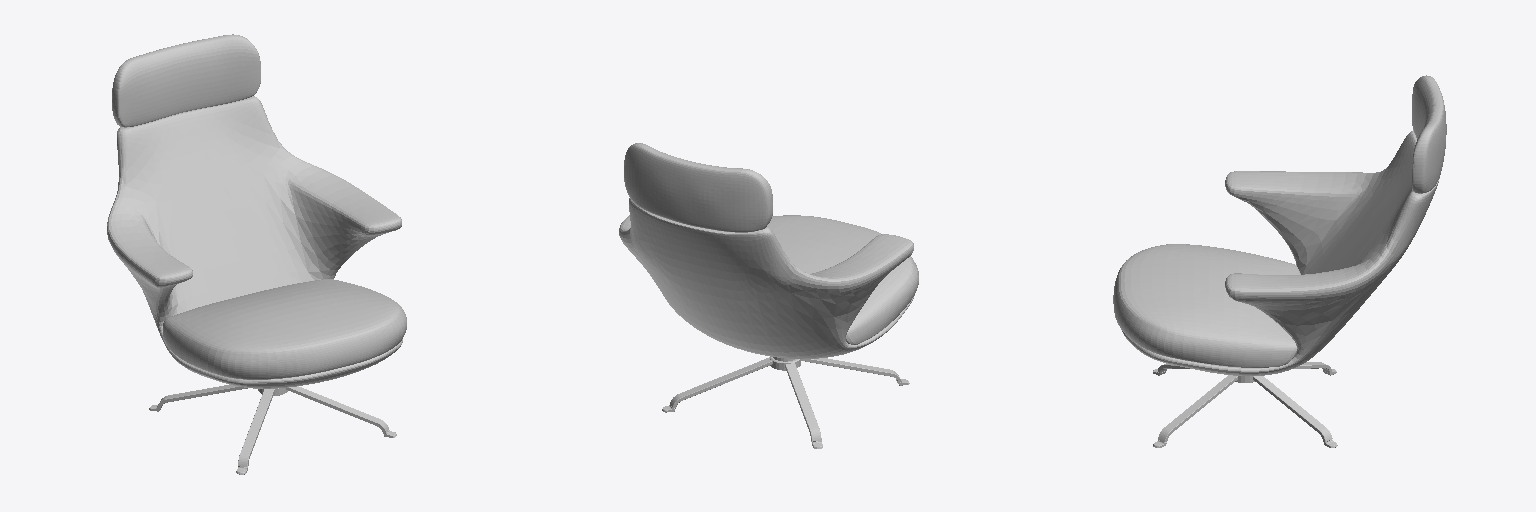
3 views of the same model, side by side, from view 1: azimuth 30°, elevation 25°; view 2: azimuth 150°, elevation 25°; view 3: azimuth 270°, elevation 25° (orthographic).
Visible parts, largest first — view 1: armchair_001; view 2: armchair_001; view 3: armchair_001.
Boxes of the visible parts, x1=… form: armchair_001: x1=107, y1=34, x2=406, y2=474; armchair_001: x1=619, y1=143, x2=918, y2=448; armchair_001: x1=1113, y1=75, x2=1446, y2=447.
Size of the model in its own units: 3.09 by 3.66 by 3.6.